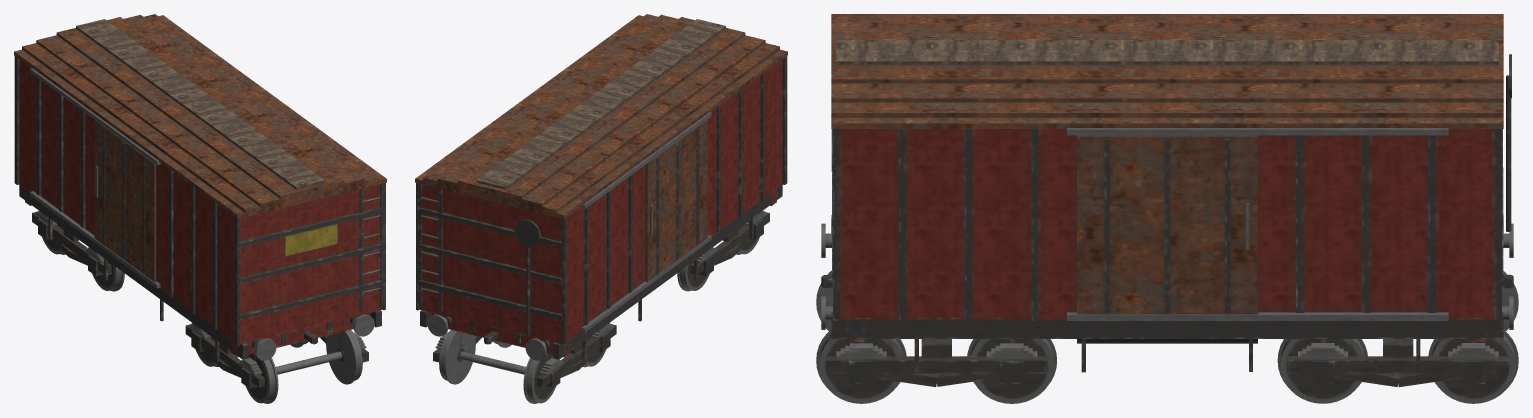
The model's file is feWagonCargoCar_HD.fbx.
The picture shows the model from 3 angles, left to right: view 1: azimuth 30°, elevation 25°; view 2: azimuth 150°, elevation 25°; view 3: azimuth 270°, elevation 25°; orthographic projection. The views are drawn at different scales.
Visible parts, largest first — view 1: feWagonCargoCar_Body, FeSpin_r0.42_Bogie00, FeSpin_r0.42_Bogie10; view 2: feWagonCargoCar_Body, FeSpin_r0.42_Bogie11, FeSpin_r0.42_Bogie01; view 3: feWagonCargoCar_Body, FeSpin_r0.42_Bogie00, FeSpin_r0.42_Bogie11, FeSpin_r0.42_Bogie01, FeSpin_r0.42_Bogie10.
Boxes of the visible parts, box(x1,y1,x2,y2) form: feWagonCargoCar_Body: box(14, 14, 386, 388); FeSpin_r0.42_Bogie00: box(245, 330, 362, 403); FeSpin_r0.42_Bogie10: box(88, 247, 124, 291); feWagonCargoCar_Body: box(415, 14, 787, 388); FeSpin_r0.42_Bogie11: box(439, 330, 556, 403); FeSpin_r0.42_Bogie01: box(677, 261, 709, 291); feWagonCargoCar_Body: box(821, 14, 1513, 387); FeSpin_r0.42_Bogie00: box(816, 270, 906, 403); FeSpin_r0.42_Bogie11: box(1428, 271, 1518, 403); FeSpin_r0.42_Bogie01: box(967, 339, 1056, 403); FeSpin_r0.42_Bogie10: box(1277, 339, 1367, 403).
Size of the model in its own units: 2.68 by 3.54 by 7.
1 material, 1 textured.
